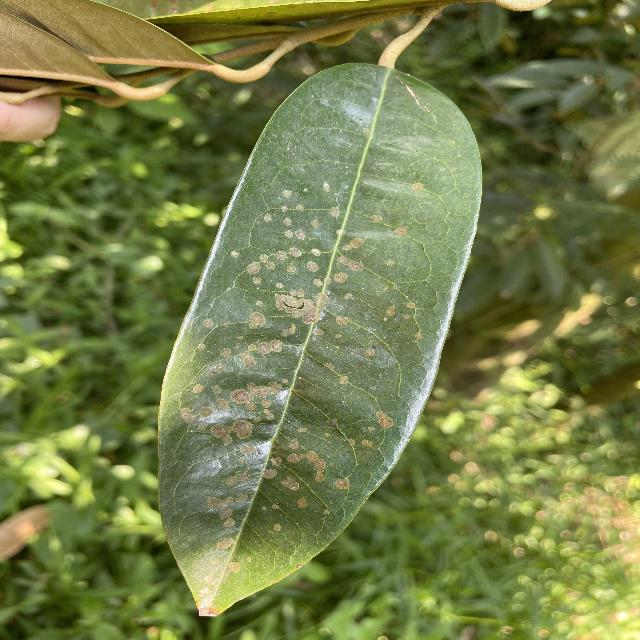Algal Leaf Spot: (143, 49, 491, 623)
